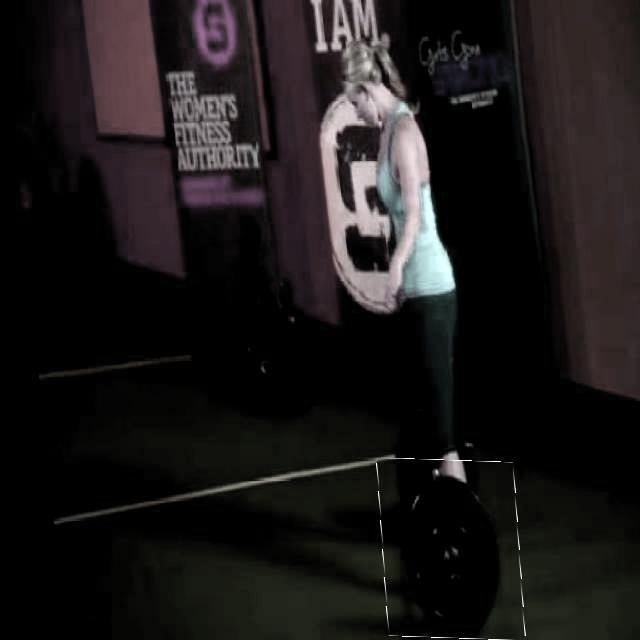barbell: (362, 460, 517, 640)
